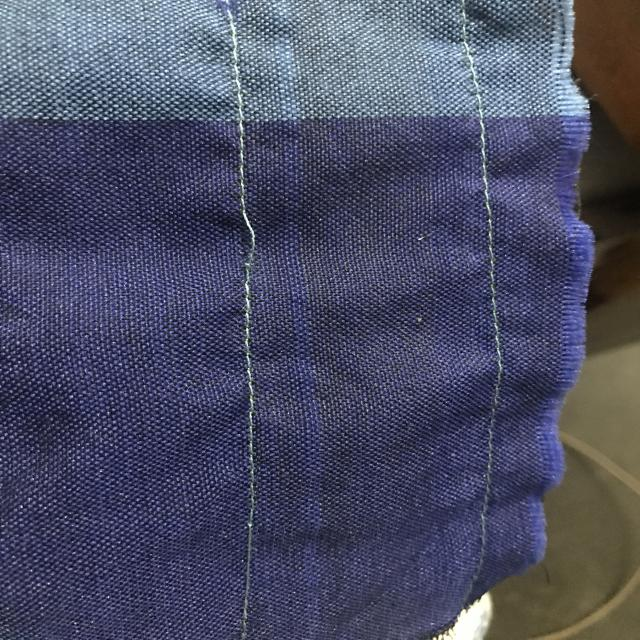good: (238, 314, 259, 374)
skip: (212, 197, 270, 276)
